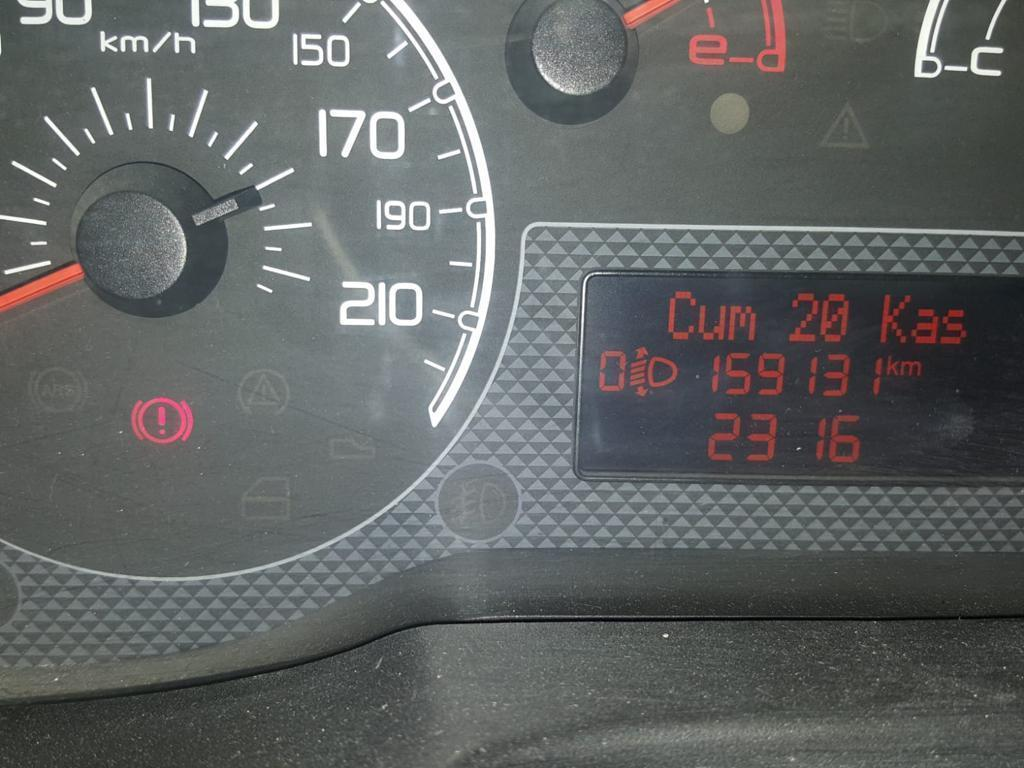0: (819, 292, 850, 343), (597, 348, 627, 393)
1: (707, 353, 723, 394), (813, 416, 826, 461), (869, 356, 883, 396), (805, 356, 819, 396)
2: (706, 412, 742, 461), (787, 291, 819, 343)
3: (745, 412, 777, 463), (821, 352, 852, 397)
5: (724, 351, 752, 395)
6: (828, 414, 862, 463)
9: (755, 351, 786, 396)
X: (878, 292, 912, 344), (666, 289, 698, 340), (726, 303, 757, 341), (910, 307, 940, 345), (698, 303, 726, 342), (940, 308, 969, 345), (899, 359, 923, 378), (886, 355, 898, 378)
odometer: (568, 265, 1021, 492)
